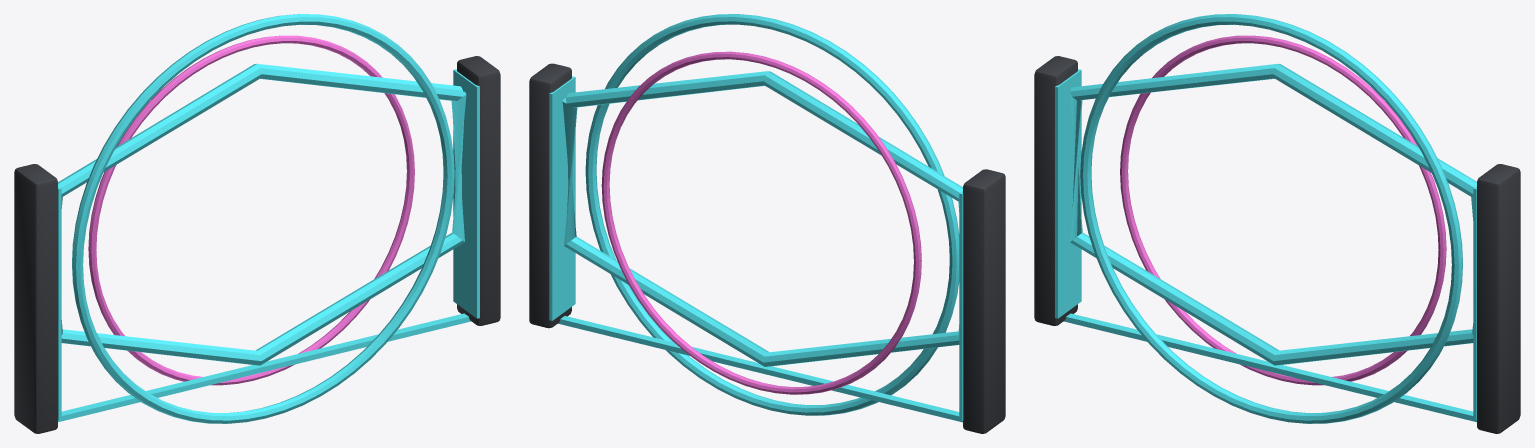
The model's file is SM_HoloArch.fbx.
3 views of the same model, side by side, from view 1: azimuth 30°, elevation 25°; view 2: azimuth 150°, elevation 25°; view 3: azimuth 330°, elevation 25° (orthographic). The views are drawn at different scales.
Visible parts, largest first — view 1: SM_HoloArch; view 2: SM_HoloArch; view 3: SM_HoloArch.
Boxes of the visible parts, box(x1,y1,x2,y2) form: SM_HoloArch: box(14, 14, 500, 433); SM_HoloArch: box(529, 14, 1005, 433); SM_HoloArch: box(1034, 14, 1520, 433).
Size of the model in its own units: 2320 by 1898 by 205.
